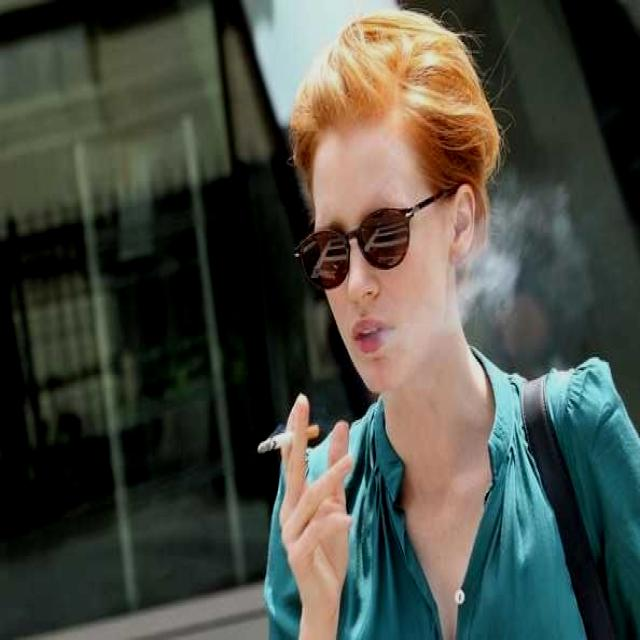Smooking: (248, 401, 326, 455)
